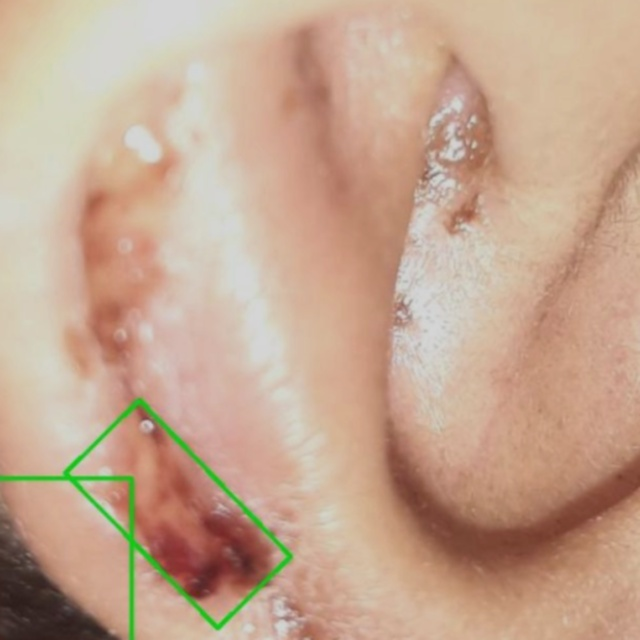Eczema: (65, 401, 290, 628), (0, 478, 131, 639)
